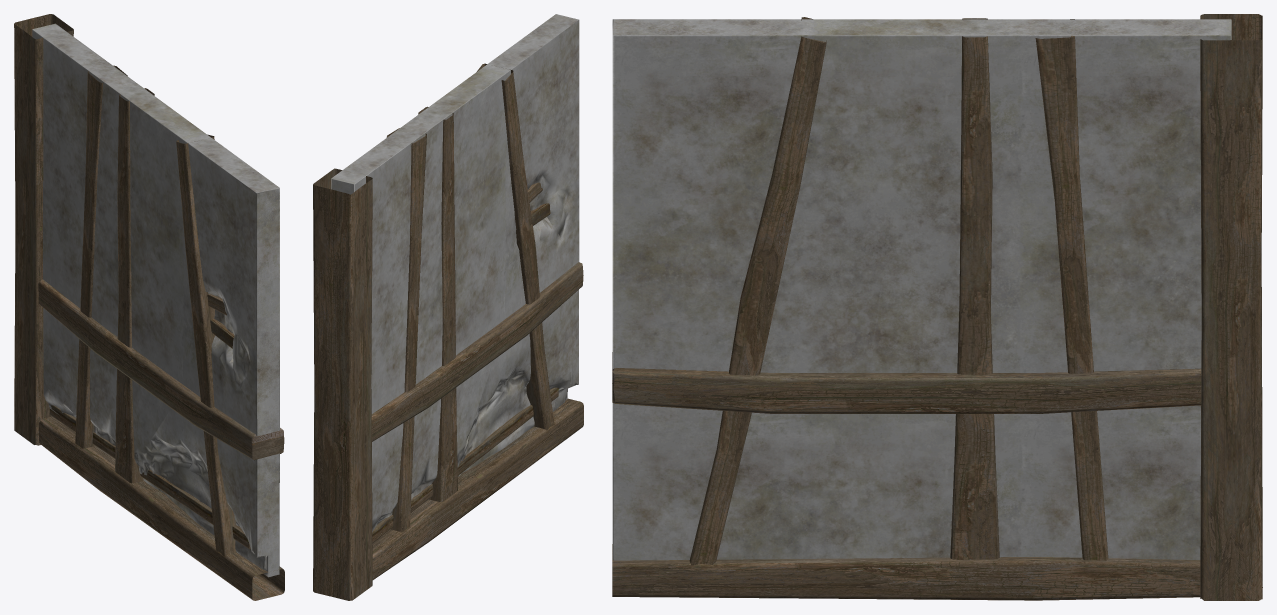
File: SM_Wall32.fbx
3 views of the same model, side by side, from view 1: azimuth 30°, elevation 25°; view 2: azimuth 150°, elevation 25°; view 3: azimuth 270°, elevation 25° (orthographic). The views are drawn at different scales.
Parts seen in each view (by area): view 1: SM_Wall32_LOD0; view 2: SM_Wall32_LOD0; view 3: SM_Wall32_LOD0.
Part boxes in pixels (left/top/right/bottom): SM_Wall32_LOD0: left=14, top=14, right=284, bottom=600; SM_Wall32_LOD0: left=313, top=14, right=583, bottom=600; SM_Wall32_LOD0: left=612, top=14, right=1262, bottom=600.
Size of the model in its own units: 30.32 by 315 by 302.
